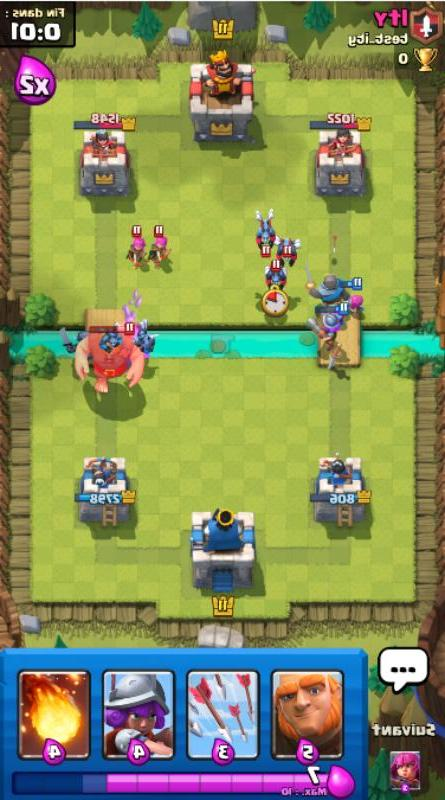archere: (337, 277, 365, 320), (125, 225, 151, 270), (147, 224, 172, 269)
chevalier: (302, 259, 354, 311)
gargouille: (254, 210, 278, 258), (274, 235, 302, 268), (98, 320, 125, 354), (134, 320, 160, 355), (263, 257, 288, 293)
geant: (73, 320, 147, 394)
mini_PEKKA: (58, 326, 93, 362)
mousquetaire: (307, 302, 349, 351)
